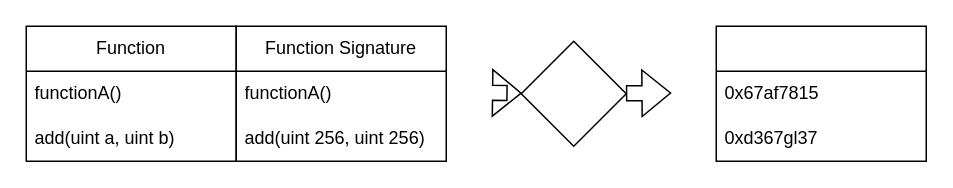
Image size: 953x188. Some labels were removed from this diagram. The box of each missing label's shape, as (x1, y1, x2, y2) in pixels:
Function Selector: (715, 25, 926, 161)
keccak256: (520, 40, 626, 146)
